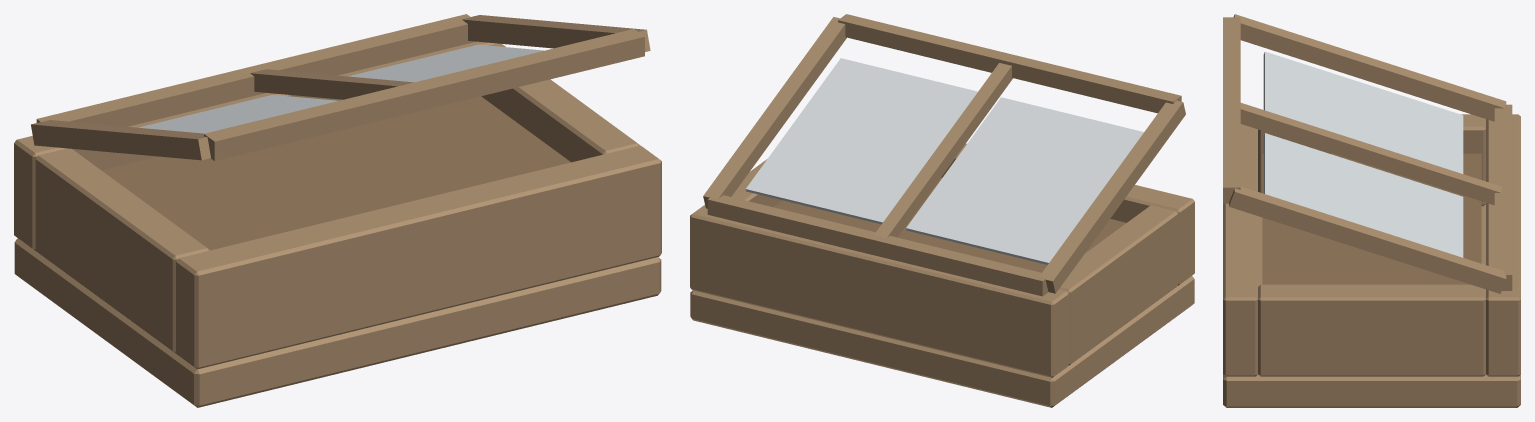
Rendered from prop-cold-frame.fbx.
The picture shows the model from 3 angles, left to right: view 1: azimuth 30°, elevation 25°; view 2: azimuth 150°, elevation 25°; view 3: azimuth 270°, elevation 25°; orthographic projection. The views are drawn at different scales.
Visible parts, largest first — view 1: prop-cold-frame; view 2: prop-cold-frame; view 3: prop-cold-frame.
Boxes of the visible parts, x1=… form: prop-cold-frame: x1=14, y1=14, x2=661, y2=407; prop-cold-frame: x1=690, y1=14, x2=1194, y2=407; prop-cold-frame: x1=1223, y1=14, x2=1520, y2=407.
Size of the model in its own units: 1 by 0.54 by 0.68.
